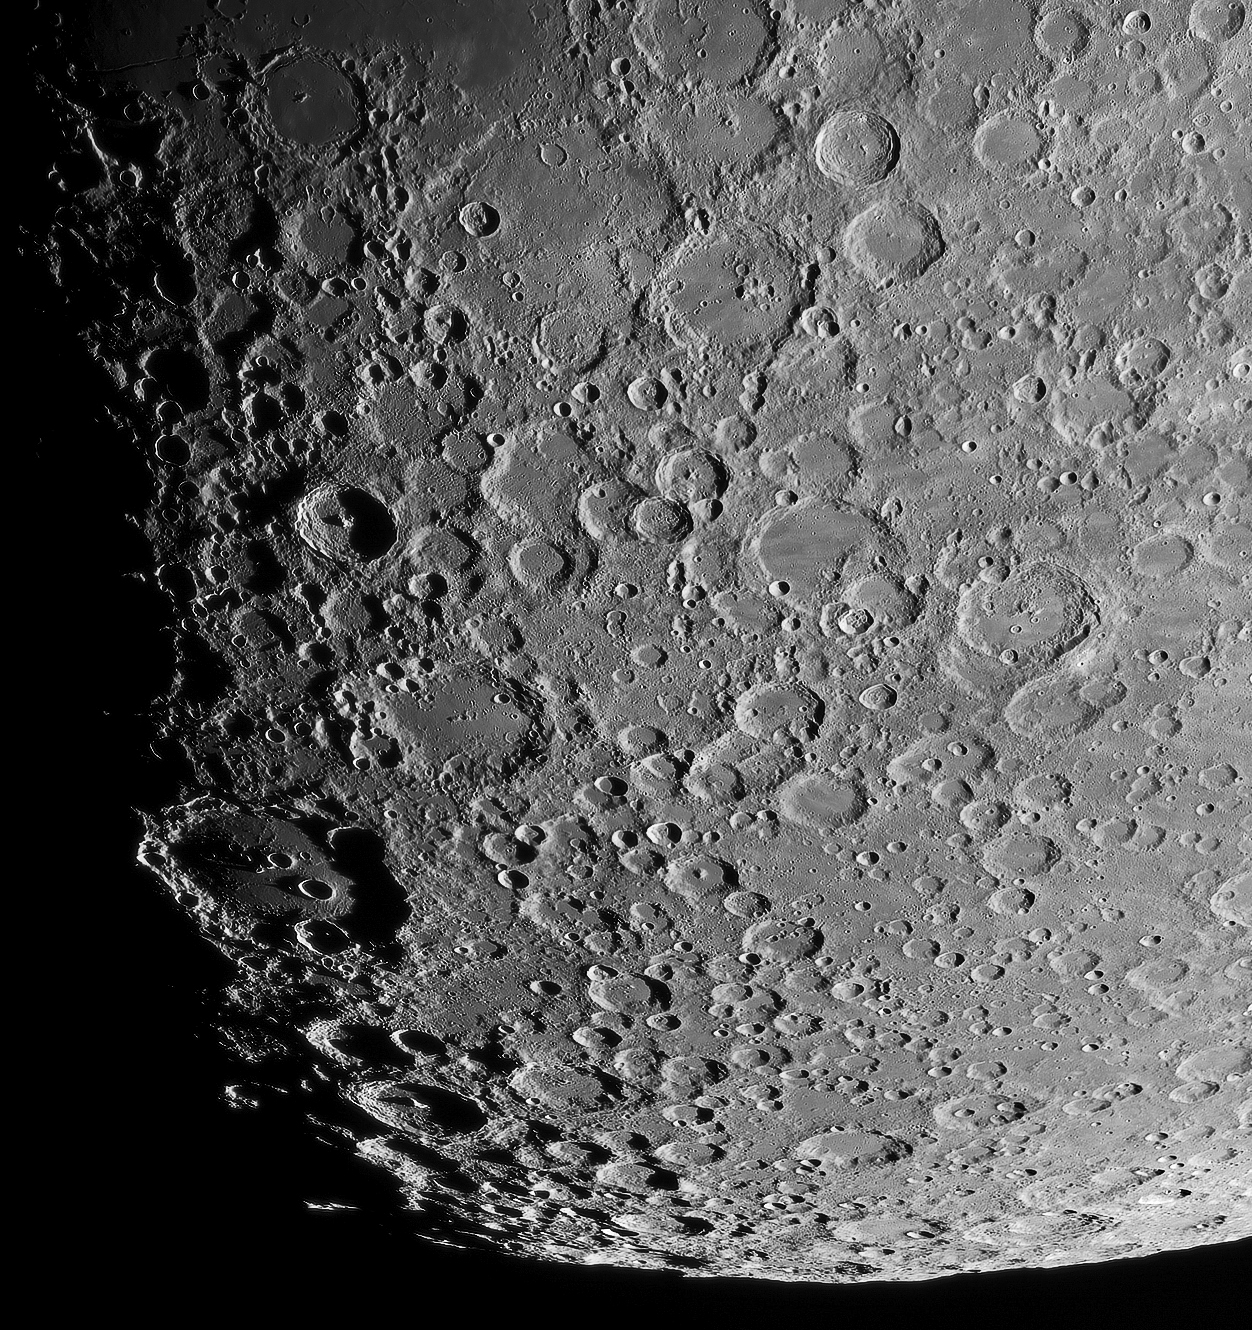crater: (120, 754, 433, 1011), (359, 639, 570, 809), (626, 219, 840, 383), (220, 31, 404, 189), (325, 1057, 502, 1171), (280, 470, 413, 586), (794, 99, 928, 202), (442, 188, 528, 259), (408, 298, 486, 351)
